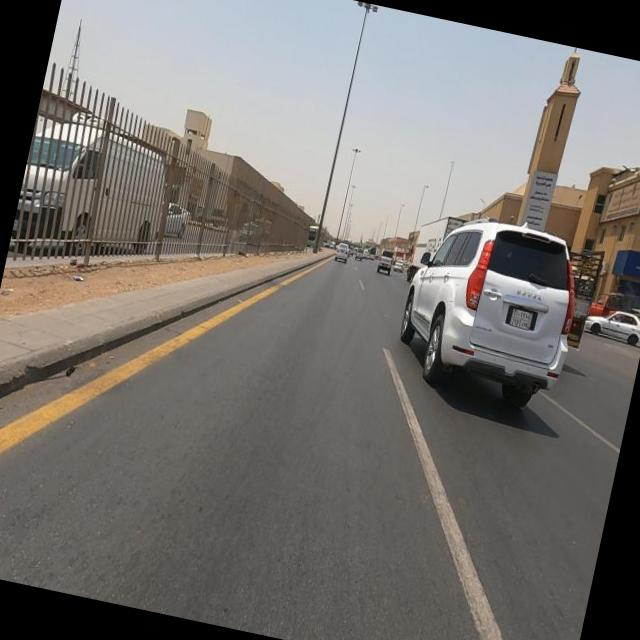debris: (564, 128, 640, 259), (51, 245, 99, 308)
